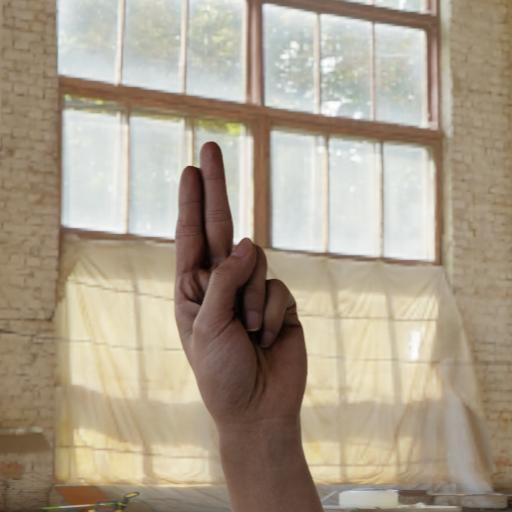U: (152, 128, 342, 456)
